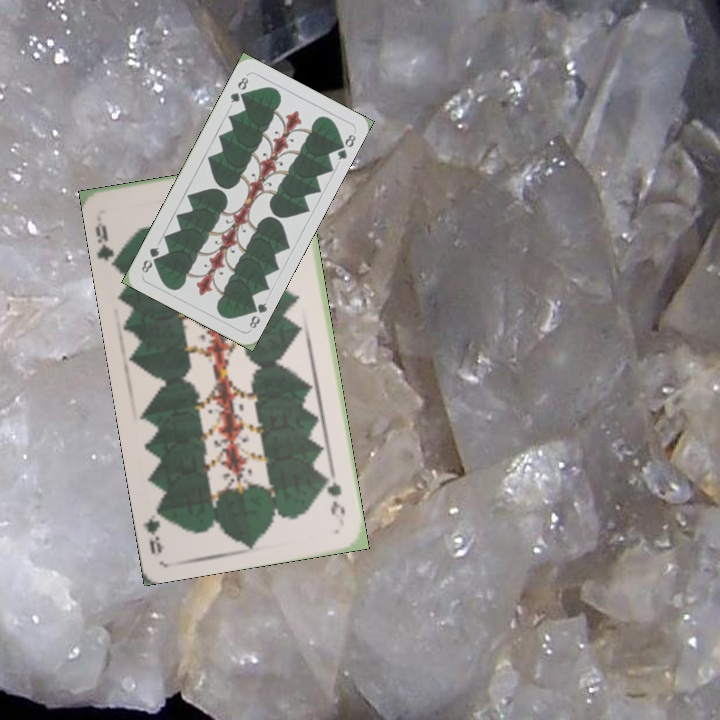G8: (226, 72, 251, 105), (245, 299, 270, 331)
G9: (91, 213, 123, 270), (321, 468, 348, 518)
